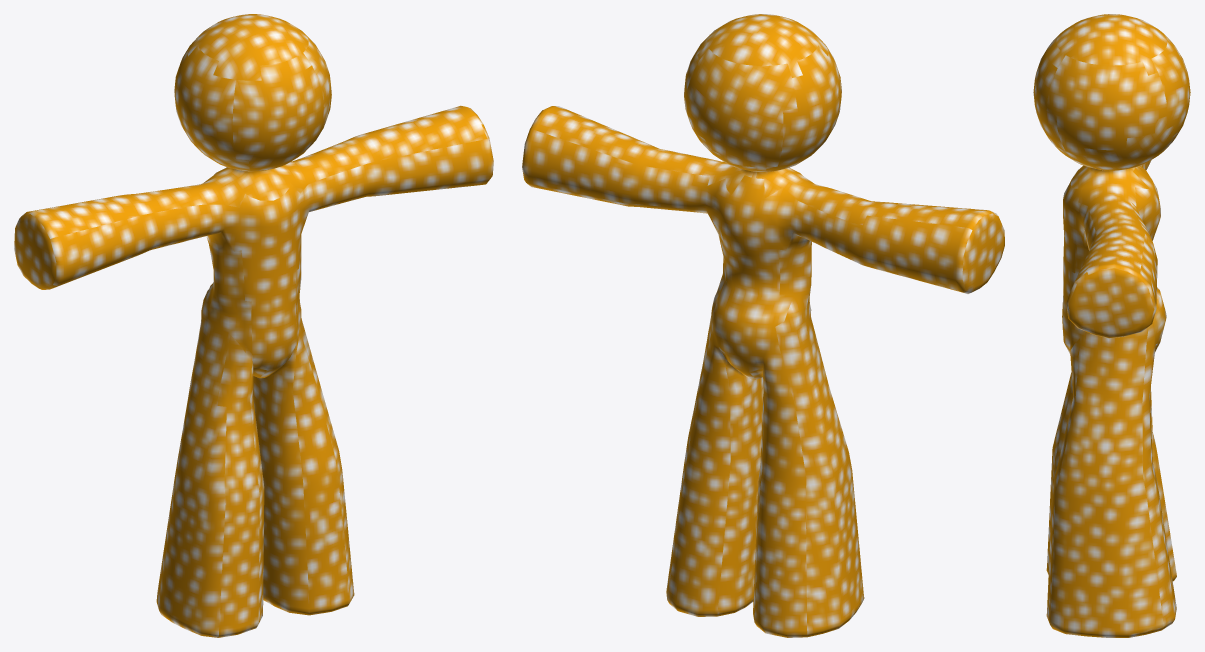
The model's file is player.obj.
3 views of the same model, side by side, from view 1: azimuth 30°, elevation 25°; view 2: azimuth 150°, elevation 25°; view 3: azimuth 270°, elevation 25° (orthographic).
Parts seen in each view (by area): view 1: player; view 2: player; view 3: player.
Boxes of the visible parts, x1,y1,x2,y2 form: player: (14,14,493,637); player: (522,14,1004,637); player: (1033,14,1190,637).
Bounding box in the file's own units: 0.6498 × 0.8093 × 0.2.
